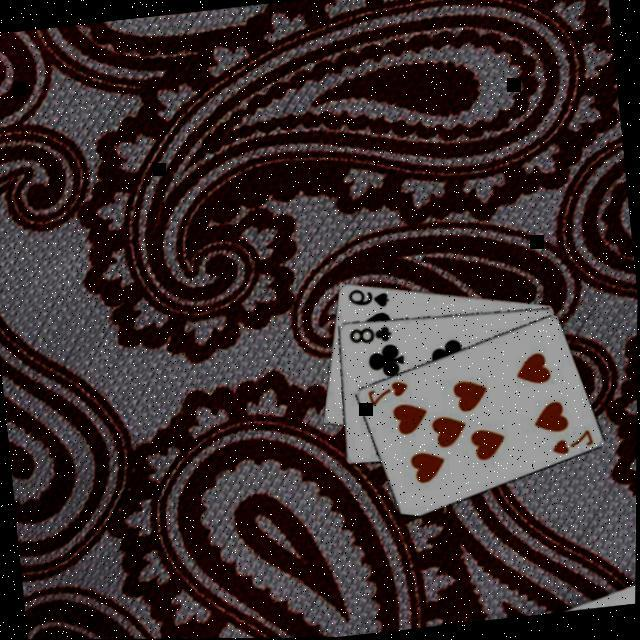7H: (364, 377, 414, 410), (549, 426, 599, 459)
8C: (348, 322, 397, 348)
9S: (346, 283, 394, 314)
